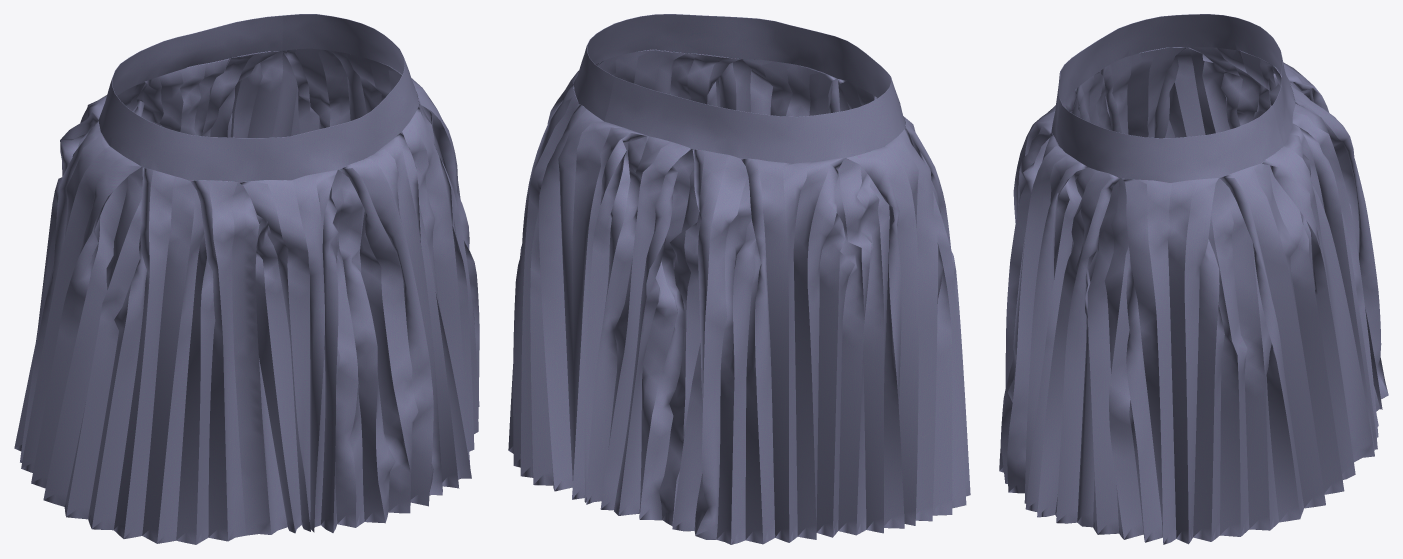
3 renders of one model, left to right at view 1: azimuth 30°, elevation 25°; view 2: azimuth 150°, elevation 25°; view 3: azimuth 270°, elevation 25°, orthographic. The views are drawn at different scales.
Visible parts, largest first — view 1: Pattern2D_1251758, Pattern2D_1251757, Pattern2D_1249878; view 2: Pattern2D_1251757, Pattern2D_1251758, Pattern2D_1249878; view 3: Pattern2D_1251758, Pattern2D_1251757, Pattern2D_1249878.
Part boxes in pixels (<box>): Pattern2D_1251758: <box>232,48,479,535</box>; Pattern2D_1251757: <box>14,51,283,544</box>; Pattern2D_1249878: <box>98,14,418,181</box>; Pattern2D_1251757: <box>572,95,970,544</box>; Pattern2D_1251758: <box>508,49,874,491</box>; Pattern2D_1249878: <box>574,14,905,163</box>; Pattern2D_1251758: <box>999,90,1355,544</box>; Pattern2D_1251757: <box>1070,47,1388,462</box>; Pattern2D_1249878: <box>1051,14,1295,182</box>.
Bounding box in the file's own units: 46.83 × 42.68 × 38.45.
